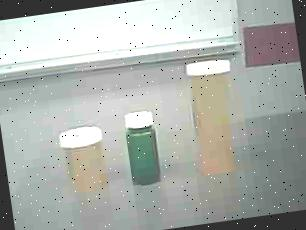Bottle A: (181, 56, 247, 183)
Bottle B: (56, 120, 114, 194)
Bottle C: (120, 104, 169, 190)
